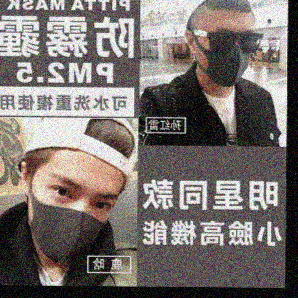with_mask: (27, 172, 121, 265), (203, 25, 255, 88)
